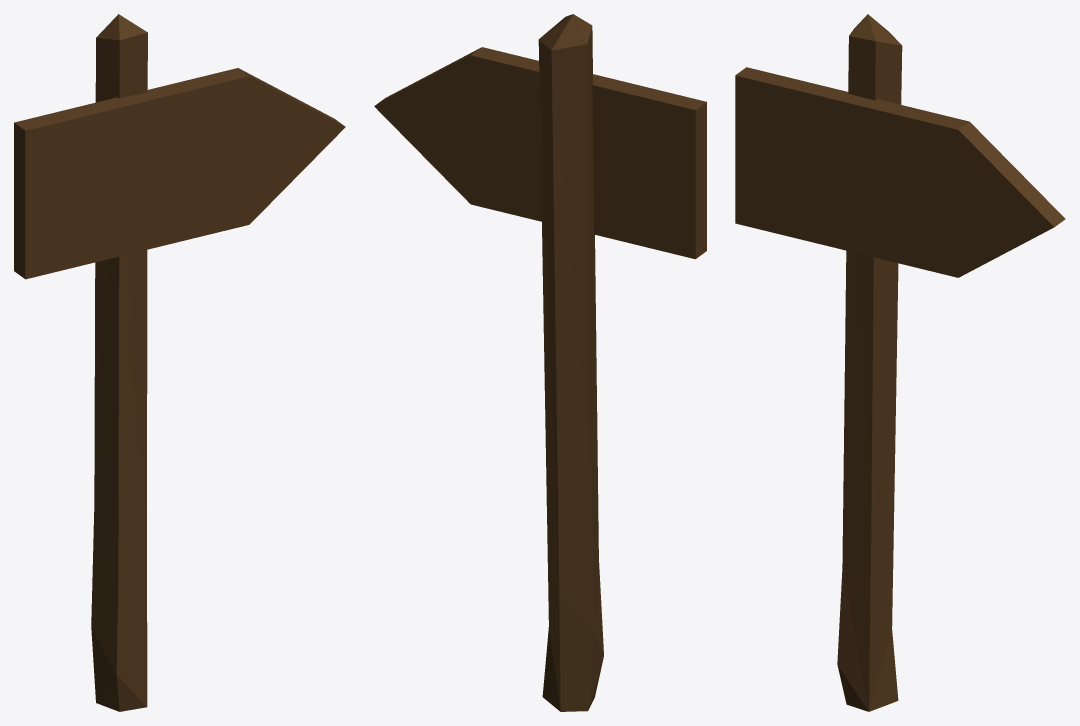
The model's file is Pointer_02.fbx.
The picture shows the model from 3 angles, left to right: view 1: azimuth 30°, elevation 25°; view 2: azimuth 150°, elevation 25°; view 3: azimuth 330°, elevation 25°; orthographic projection.
Parts seen in each view (by area): view 1: Pointer_02; view 2: Pointer_02; view 3: Pointer_02.
Part boxes in pixels (<box>): Pointer_02: <box>14,14,345,711</box>; Pointer_02: <box>374,14,706,711</box>; Pointer_02: <box>735,14,1065,711</box>.
Bounding box in the file's own units: 181 × 371 × 33.91.
